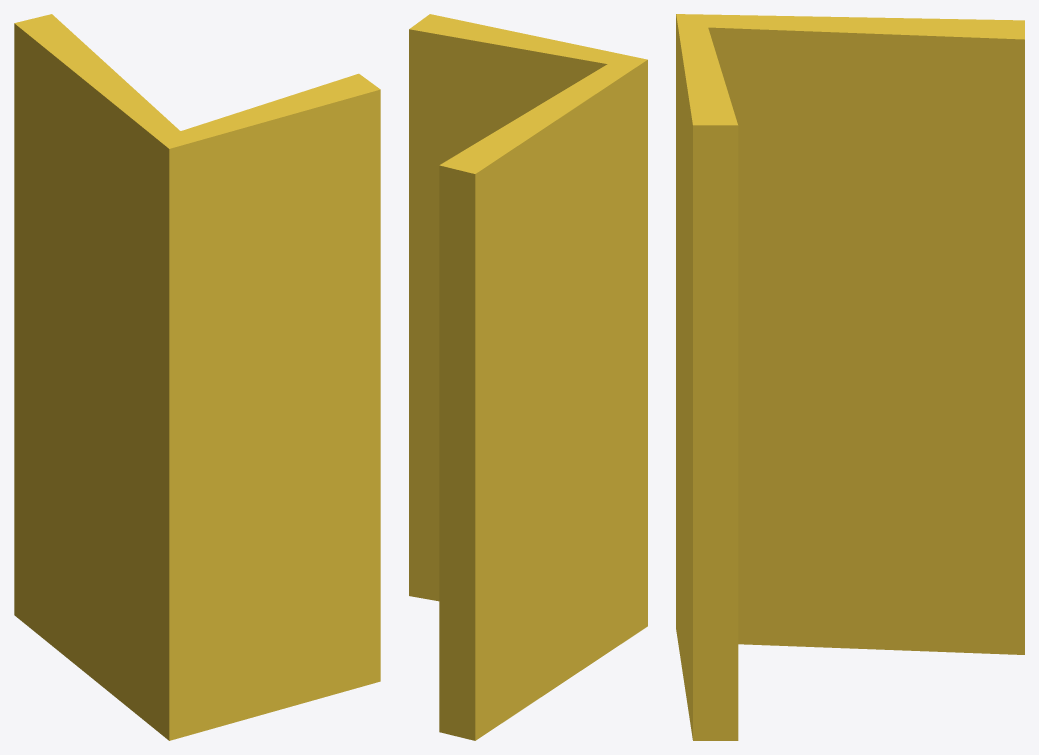
File: Wall1_Middel_Cornor.fbx
The picture shows the model from 3 angles, left to right: view 1: azimuth 30°, elevation 25°; view 2: azimuth 150°, elevation 25°; view 3: azimuth 270°, elevation 25°; orthographic projection. The views are drawn at different scales.
Visible parts, largest first — view 1: Wall002_Mid_Cornor; view 2: Wall002_Mid_Cornor; view 3: Wall002_Mid_Cornor.
Boxes of the visible parts, x1,y1,x2,y2 form: Wall002_Mid_Cornor: (14,14,380,740); Wall002_Mid_Cornor: (409,14,647,740); Wall002_Mid_Cornor: (676,14,1024,740).
Bounding box in the file's own units: 45.83 × 118 × 60.63.
